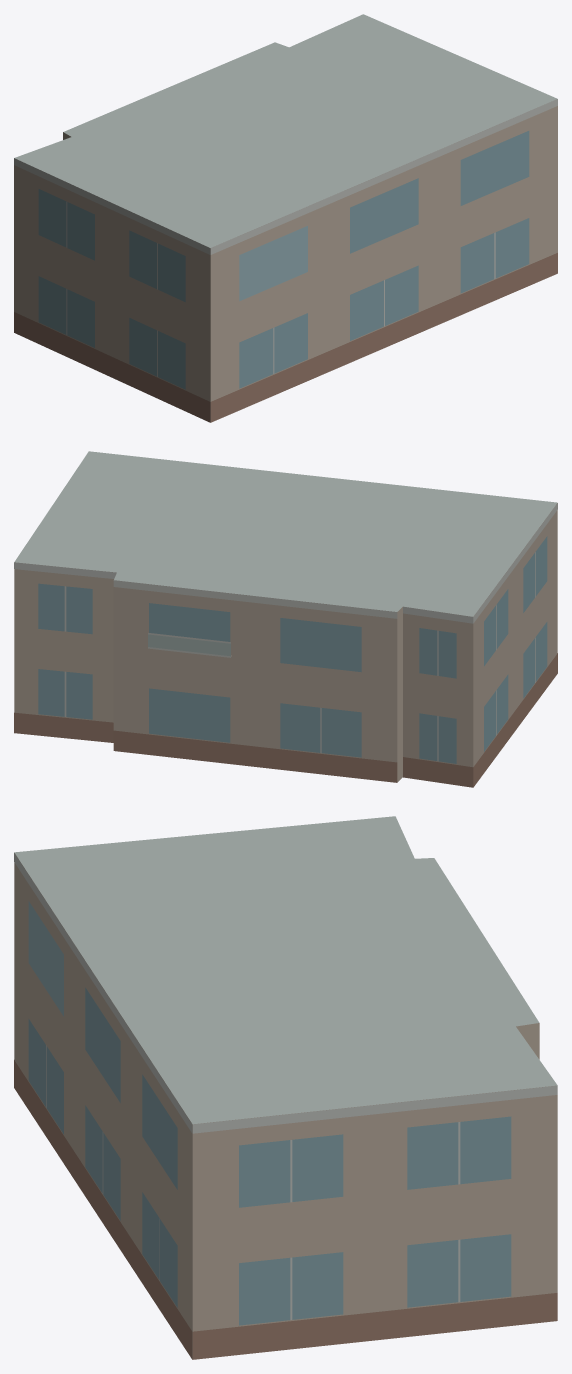
File: survey-upis-32647700.glb
3 views of the same model, one above another, from view 1: azimuth 30°, elevation 25°; view 2: azimuth 150°, elevation 25°; view 3: azimuth 270°, elevation 25° (orthographic). The views are drawn at different scales.
Visible parts, largest first — view 1: survey-upis-32647700.tmp; view 2: survey-upis-32647700.tmp; view 3: survey-upis-32647700.tmp.
Boxes of the visible parts, x1,y1,x2,y2 form: survey-upis-32647700.tmp: (14, 14, 557, 422); survey-upis-32647700.tmp: (14, 451, 557, 787); survey-upis-32647700.tmp: (14, 816, 557, 1359).
Size of the model in its own units: 17.13 by 6.1 by 12.77.
